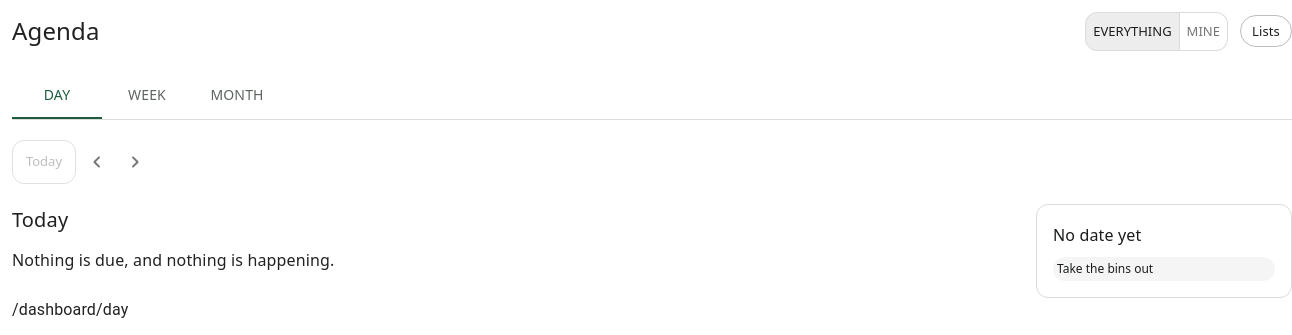
Test case: DashboardPage › shows the undated panel on every range, and does not refetch it on a tab change
Expected: the heading "No date yet" is shown, x1=1053 y1=224 x2=1141 y2=246
Click the tab "Week".
click(147, 94)  # box x1=128 y1=85 x2=166 y2=104
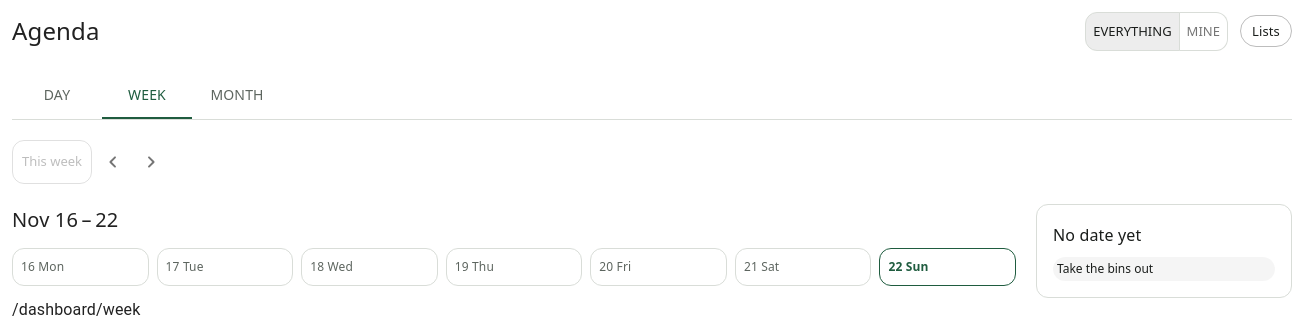
Expected: the heading "No date yet" is shown, x1=1053 y1=224 x2=1141 y2=246
Expected: the button named "Next week" is shown, x1=134 y1=145 x2=168 y2=179
